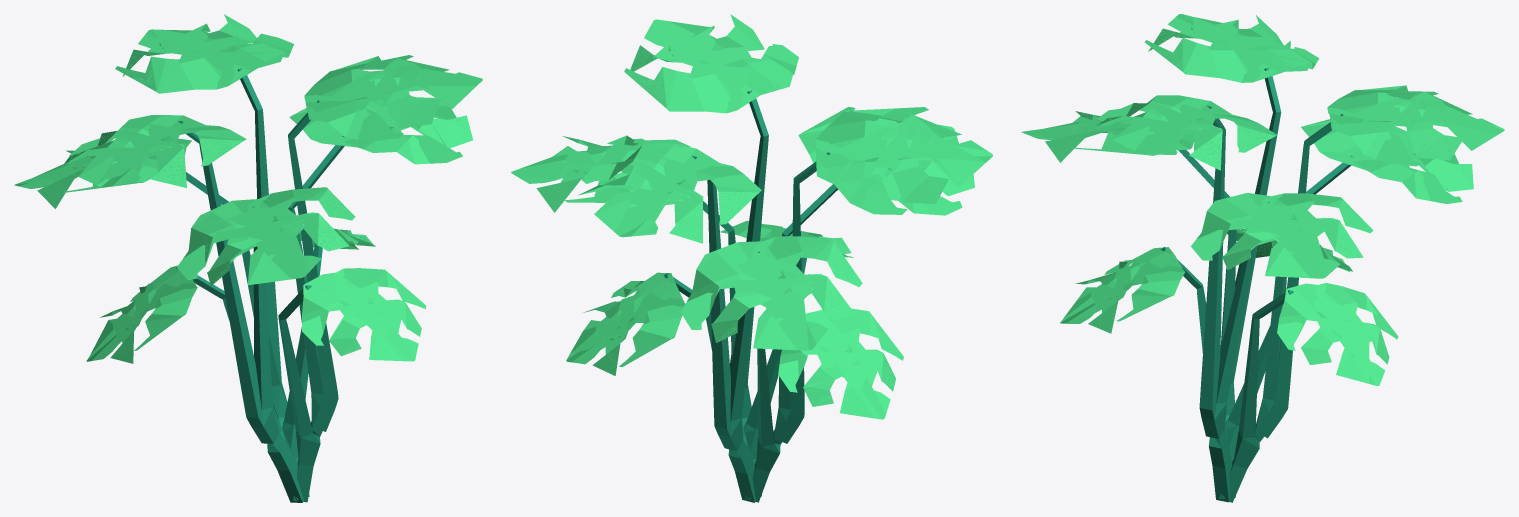
File: plant2.fbx
The picture shows the model from 3 angles, left to right: view 1: azimuth 30°, elevation 25°; view 2: azimuth 150°, elevation 25°; view 3: azimuth 270°, elevation 25°; orthographic projection.
Parts seen in each view (by area): view 1: Plane; view 2: Plane; view 3: Plane.
Part boxes in pixels (x1,y1,x2,y2): Plane: (14,14,482,502); Plane: (511,14,992,502); Plane: (1021,14,1504,502).
Size of the model in its own units: 64.59 by 63.41 by 65.82.
